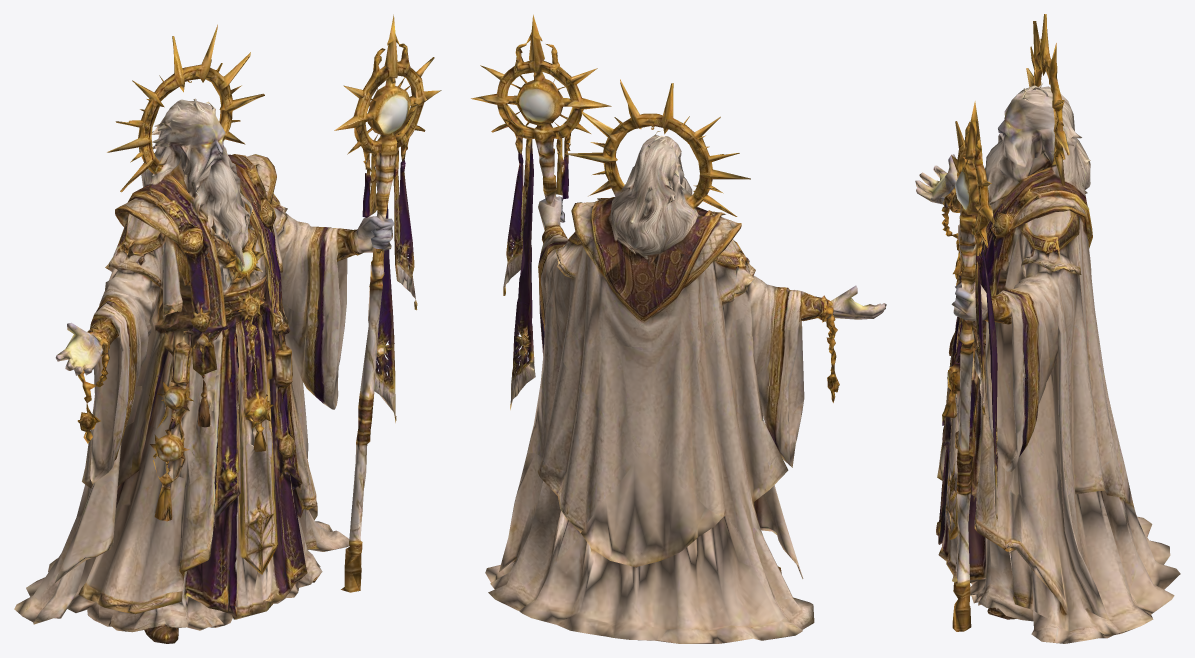
File: arcane_high-priest.glb
3 views of the same model, side by side, from view 1: azimuth 30°, elevation 25°; view 2: azimuth 150°, elevation 25°; view 3: azimuth 270°, elevation 25° (orthographic). The views are drawn at different scales.
Visible parts, largest first — view 1: tripo_node_a32903a0-98cd-42cf-9432-f3b634ecb281; view 2: tripo_node_a32903a0-98cd-42cf-9432-f3b634ecb281; view 3: tripo_node_a32903a0-98cd-42cf-9432-f3b634ecb281.
Part boxes in pixels (x1,y1,x2,y2): tripo_node_a32903a0-98cd-42cf-9432-f3b634ecb281: (14,14,441,643); tripo_node_a32903a0-98cd-42cf-9432-f3b634ecb281: (471,14,886,643); tripo_node_a32903a0-98cd-42cf-9432-f3b634ecb281: (915,14,1180,643).
Bounding box in the file's own units: 0.7625 × 0.9794 × 0.4268.
Materials: 1 (1 with a texture image).
